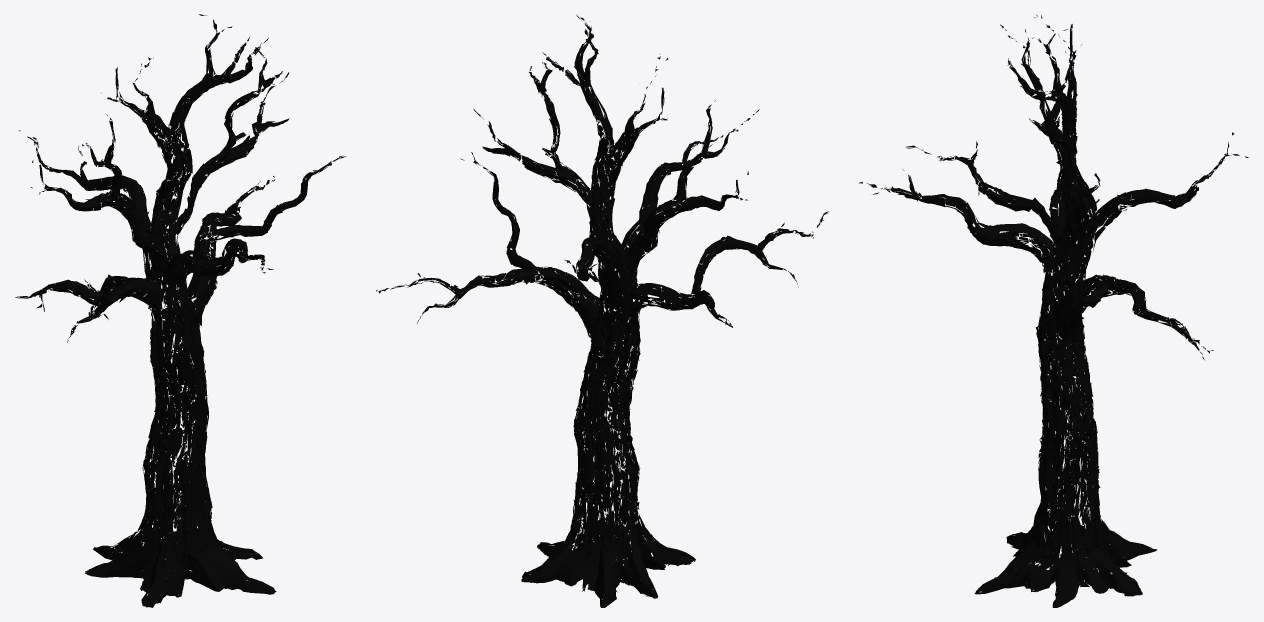
Rendered from dead_tree.glb.
3 views of the same model, side by side, from view 1: azimuth 30°, elevation 25°; view 2: azimuth 150°, elevation 25°; view 3: azimuth 270°, elevation 25° (orthographic). The views are drawn at different scales.
Parts seen in each view (by area): view 1: dead_tree_body; view 2: dead_tree_body; view 3: dead_tree_body.
Part boxes in pixels (x1,y1,x2,y2): dead_tree_body: (15,14,346,607); dead_tree_body: (376,14,828,607); dead_tree_body: (859,15,1248,607).
Bounding box in the file's own units: 6.11 × 10.02 × 6.42.
1 material, 1 textured.
